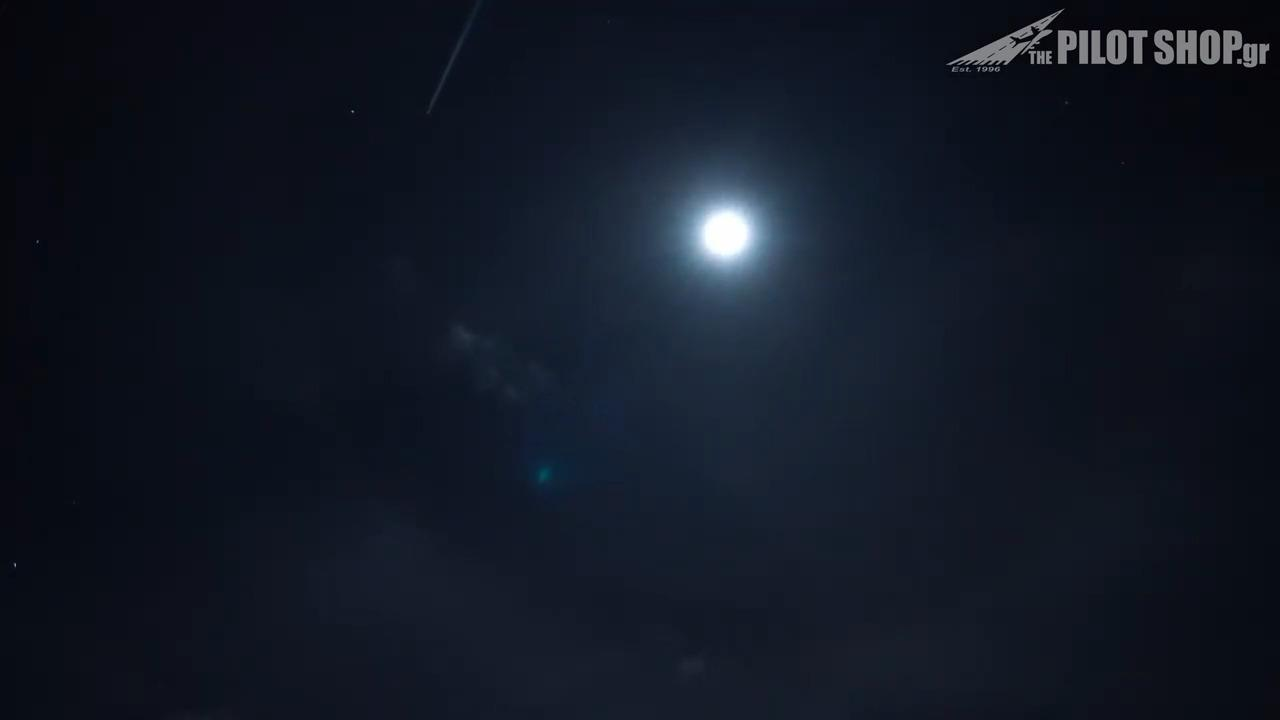Plane: (371, 1, 535, 124)
